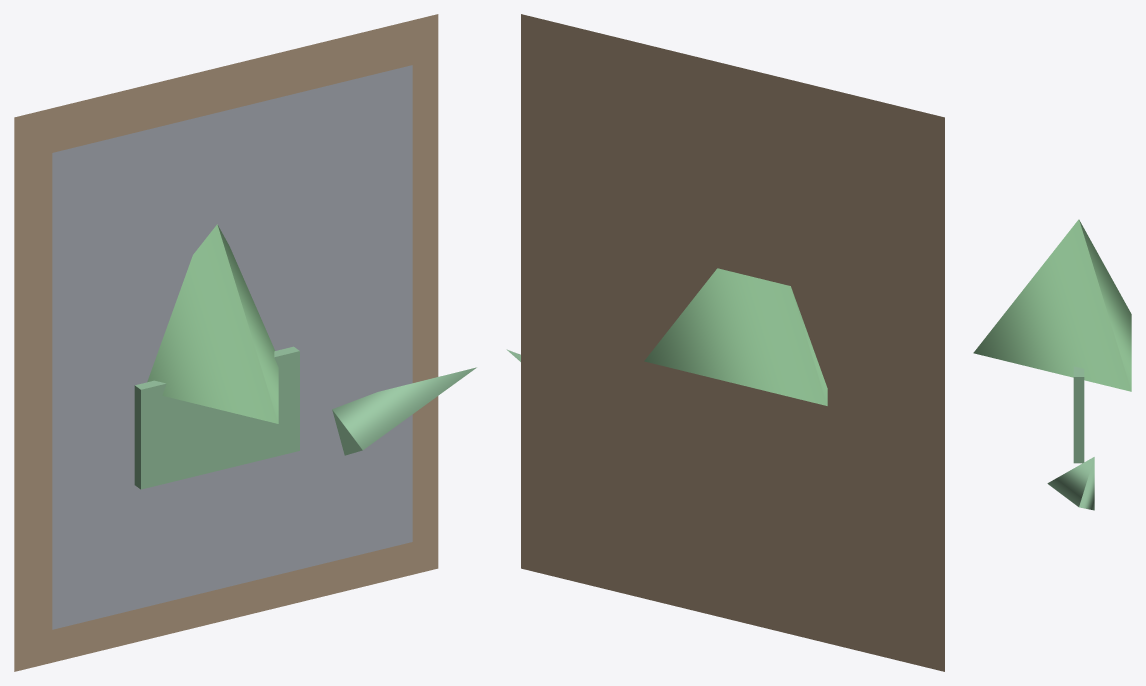
File: portrait-dragon.gltf
3 views of the same model, side by side, from view 1: azimuth 30°, elevation 25°; view 2: azimuth 150°, elevation 25°; view 3: azimuth 270°, elevation 25° (orthographic). The views are drawn at different scales.
Parts seen in each view (by area): view 1: Mount, Frame, Wing, Body, Tail; view 2: Frame, Wing; view 3: Wing, Tail, Body.
Part boxes in pixels (<box>): Mount: <box>52,65,412,629</box>; Frame: <box>14,14,438,671</box>; Wing: <box>147,224,278,423</box>; Body: <box>134,346,299,489</box>; Tail: <box>332,367,476,455</box>; Frame: <box>521,14,944,671</box>; Wing: <box>644,268,827,405</box>; Wing: <box>973,219,1131,391</box>; Tail: <box>1047,457,1094,510</box>; Body: <box>1073,366,1084,463</box>.
Size of the model in its own units: 0.8511 by 1 by 0.3.
